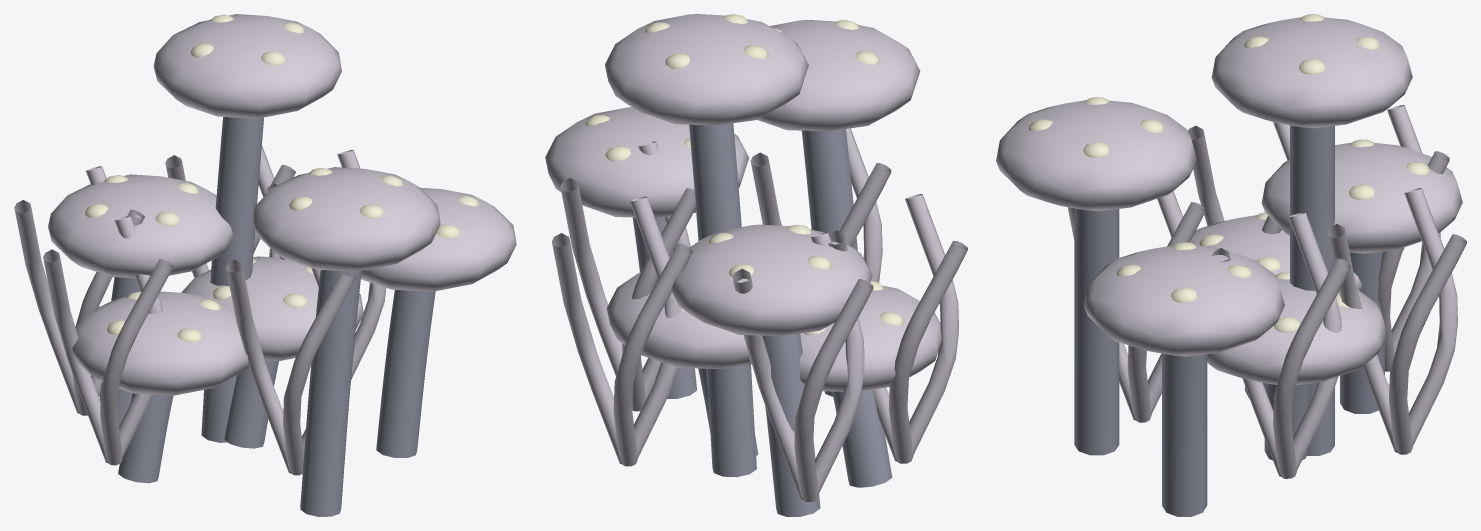
File: bio_spore_fungus_04_far.glb
The picture shows the model from 3 angles, left to right: view 1: azimuth 30°, elevation 25°; view 2: azimuth 150°, elevation 25°; view 3: azimuth 270°, elevation 25°; orthographic projection. The views are drawn at different scales.
Parts seen in each view (by area): view 1: Thick umbrella cap.002, Thick umbrella cap.003, Thick umbrella cap.001, Thick umbrella cap.004, Curved stipe.002, Spiral filament.012, Thick umbrella cap.005, Curved stipe.003, Spiral filament.006, Curved stipe.005, Thick umbrella cap, Spiral filament.003 (+9 smaller); view 2: Thick umbrella cap.003, Thick umbrella cap.001, Thick umbrella cap.005, Thick umbrella cap.002, Spiral filament.009, Spiral filament.003, Curved stipe.003, Spiral filament.012, Spiral filament, Thick umbrella cap.004, Thick umbrella cap, Spiral filament.006 (+7 smaller); view 3: Thick umbrella cap.003, Thick umbrella cap.002, Thick umbrella cap.005, Thick umbrella cap.001, Spiral filament.009, Curved stipe.002, Spiral filament, Thick umbrella cap, Curved stipe.005, Curved stipe.003, Spiral filament.006, Spiral filament.003 (+8 smaller).
Boxes of the visible parts, <box> form: Thick umbrella cap.002: <box>252,167,440,271</box>; Thick umbrella cap.003: <box>153,14,341,118</box>; Thick umbrella cap.001: <box>48,174,232,278</box>; Thick umbrella cap.004: <box>72,291,249,395</box>; Curved stipe.002: <box>300,270,361,516</box>; Spiral filament.012: <box>43,215,173,465</box>; Thick umbrella cap.005: <box>361,187,516,291</box>; Curved stipe.003: <box>201,117,263,442</box>; Spiral filament.006: <box>226,259,356,475</box>; Curved stipe.005: <box>376,290,435,457</box>; Thick umbrella cap: <box>181,256,363,361</box>; Spiral filament.003: <box>14,166,144,415</box>; Thick umbrella cap.003: <box>605,14,808,125</box>; Thick umbrella cap.001: <box>671,224,872,335</box>; Thick umbrella cap.005: <box>545,107,749,218</box>; Thick umbrella cap.002: <box>757,20,920,131</box>; Spiral filament.009: <box>552,196,692,466</box>; Spiral filament.003: <box>732,232,873,501</box>; Curved stipe.003: <box>689,123,756,477</box>; Spiral filament.012: <box>828,194,967,463</box>; Spiral filament: <box>560,141,695,411</box>; Thick umbrella cap.004: <box>749,285,941,391</box>; Thick umbrella cap: <box>606,272,751,368</box>; Spiral filament.006: <box>750,128,891,282</box>; Thick umbrella cap.003: <box>1211,17,1412,128</box>; Thick umbrella cap.002: <box>996,100,1196,211</box>; Thick umbrella cap.005: <box>1084,245,1284,356</box>; Thick umbrella cap.001: <box>1261,142,1462,253</box>; Spiral filament.009: <box>1327,188,1466,454</box>; Curved stipe.002: <box>1074,208,1119,455</box>; Spiral filament: <box>1211,212,1350,478</box>; Thick umbrella cap: <box>1207,278,1387,385</box>; Curved stipe.005: <box>1162,353,1207,516</box>; Curved stipe.003: <box>1290,125,1334,455</box>; Spiral filament.006: <box>1067,191,1205,422</box>; Spiral filament.003: <box>1378,105,1449,371</box>.
Bounding box in the file's own units: 1.95 × 1.78 × 1.77.
